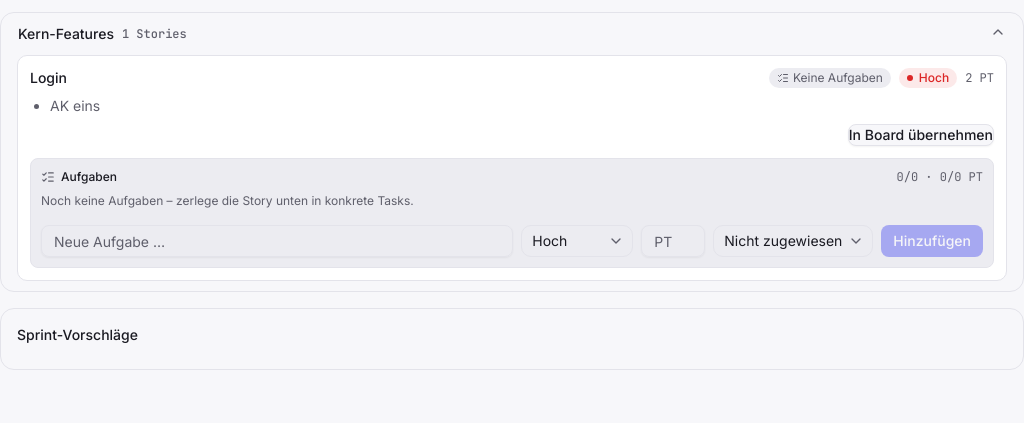
BacklogView – In Board übernehmen › creates a backlog task from a story and prevents duplicates
Click the button "In Board übernehmen": (921, 135) [848,124,994,146]
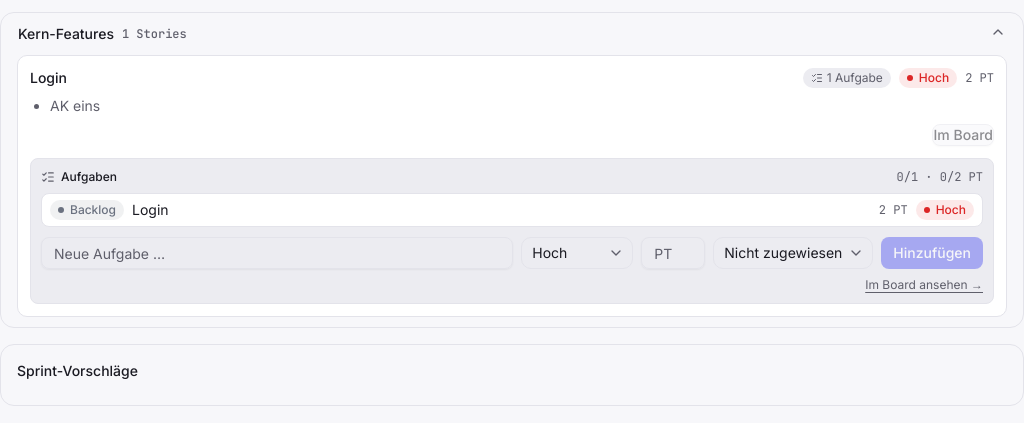
Result: the button "Im Board" is disabled at [932,124,994,146]
